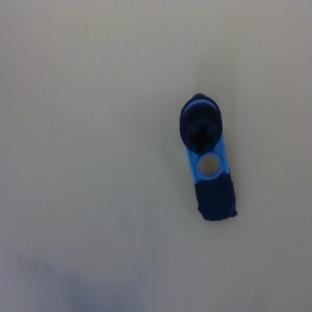part_1_bad: (174, 90, 239, 224)
